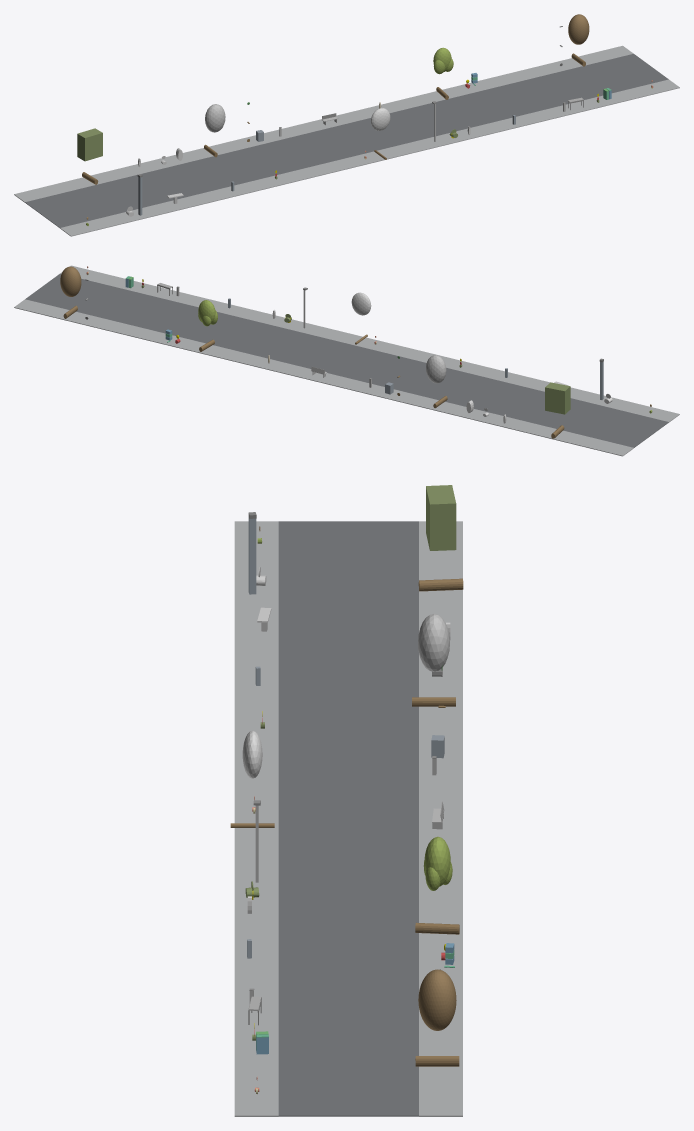
3 renders of one model, top to bottom at view 1: azimuth 30°, elevation 25°; view 2: azimuth 150°, elevation 25°; view 3: azimuth 270°, elevation 25°, orthographic. The views are drawn at different scales.
Visible parts, largest first — view 1: road_slab, sidewalk_left, sidewalk_right, inst_0012, inst_0016, inst_0013, inst_0015, inst_0014; view 2: road_slab, sidewalk_right, sidewalk_left, inst_0012, inst_0016, inst_0013, inst_0015, inst_0014; view 3: road_slab, sidewalk_left, sidewalk_right, inst_0012, inst_0016, inst_0013, inst_0015, inst_0014.
Part boxes in pixels (x1,y1,x2,y2): road_slab: (25, 53, 668, 227); sidewalk_left: (60, 79, 679, 236); sidewalk_right: (14, 45, 633, 202); inst_0012: (77, 128, 102, 184); inst_0016: (568, 14, 589, 66); inst_0013: (204, 104, 225, 157); inst_0015: (433, 47, 453, 99); inst_0014: (371, 108, 390, 159); road_slab: (25, 273, 668, 447); sidewalk_right: (14, 299, 633, 456); sidewalk_left: (60, 265, 679, 422); inst_0012: (545, 382, 570, 438); inst_0016: (60, 266, 81, 318); inst_0013: (426, 355, 447, 408); inst_0015: (198, 300, 217, 351); inst_0014: (351, 292, 371, 344); road_slab: (278, 521, 418, 1116); sidewalk_left: (234, 521, 278, 1116); sidewalk_right: (419, 521, 462, 1116); inst_0012: (418, 485, 463, 591); inst_0016: (415, 969, 459, 1066); inst_0013: (412, 614, 455, 706); inst_0015: (415, 836, 459, 934); inst_0014: (230, 730, 274, 827).
Bounding box in the file's own units: 80 × 6.08 × 13.24.
